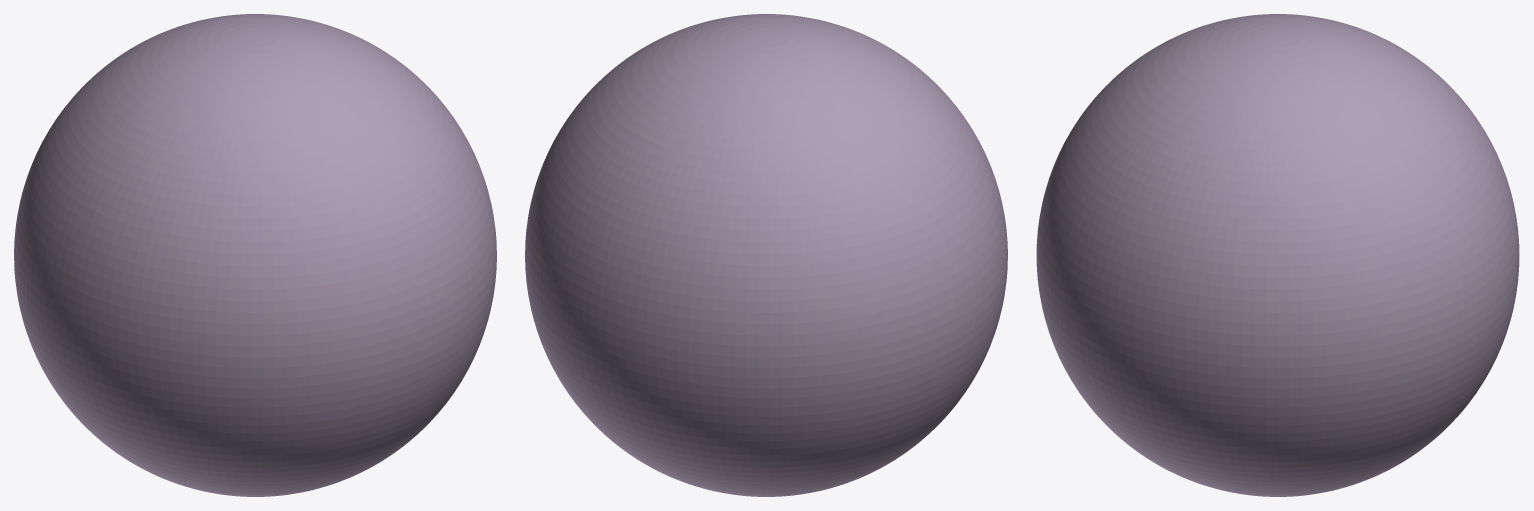
The model's file is triton.glb.
3 renders of one model, left to right at view 1: azimuth 30°, elevation 25°; view 2: azimuth 150°, elevation 25°; view 3: azimuth 270°, elevation 25°, orthographic.
Visible parts, largest first — view 1: Sphere; view 2: Sphere; view 3: Sphere.
Boxes of the visible parts, x1,y1,x2,y2 form: Sphere: [14, 14, 496, 496]; Sphere: [525, 14, 1007, 496]; Sphere: [1036, 14, 1519, 496].
Size of the model in its own units: 2.71 by 2.71 by 2.71.
